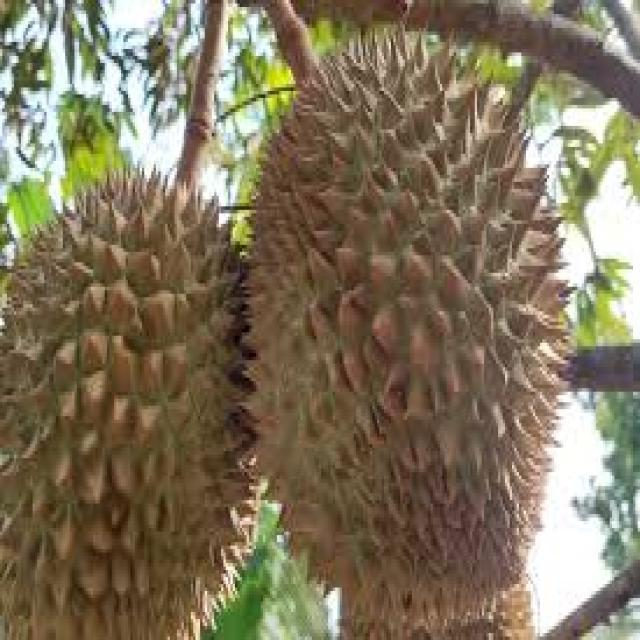mature: (251, 28, 569, 636)
